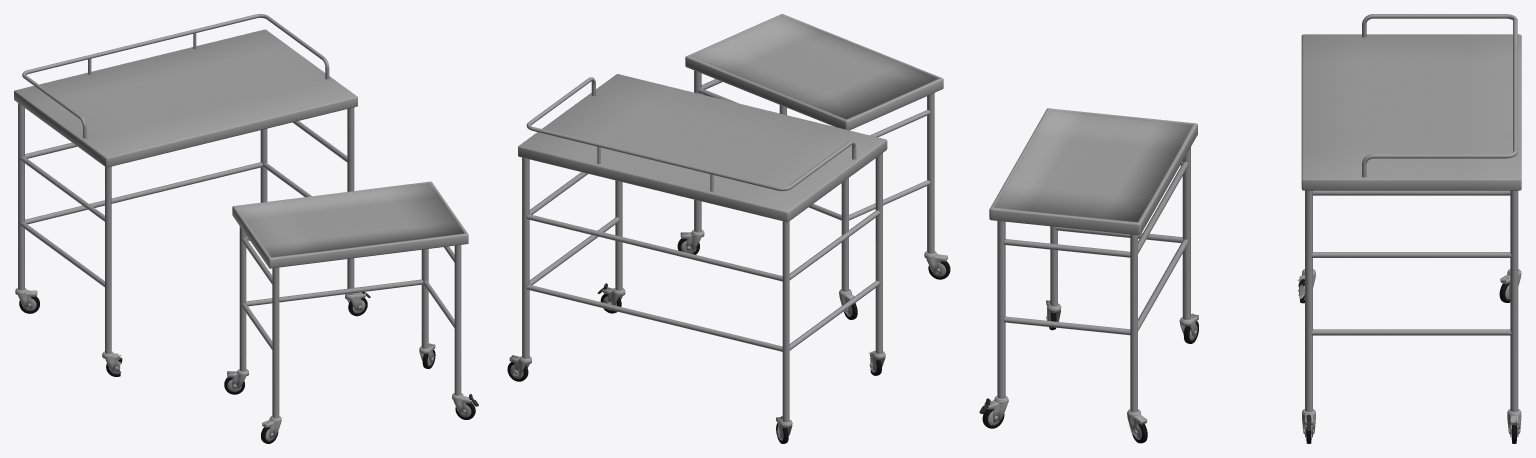
The model's file is hospitalTrolly.obj.
The picture shows the model from 3 angles, left to right: view 1: azimuth 30°, elevation 25°; view 2: azimuth 150°, elevation 25°; view 3: azimuth 270°, elevation 25°; orthographic projection. The views are drawn at different scales.
Visible parts, largest first — view 1: main_toly_MAIN_TROLY_0; view 2: main_toly_MAIN_TROLY_0; view 3: main_toly_MAIN_TROLY_0.
Boxes of the visible parts, bbox=[...] form: main_toly_MAIN_TROLY_0: bbox=[14, 14, 478, 443]; main_toly_MAIN_TROLY_0: bbox=[507, 14, 950, 443]; main_toly_MAIN_TROLY_0: bbox=[979, 14, 1521, 443].
Bounding box in the file's own units: 59.25 × 50.98 × 88.05.
